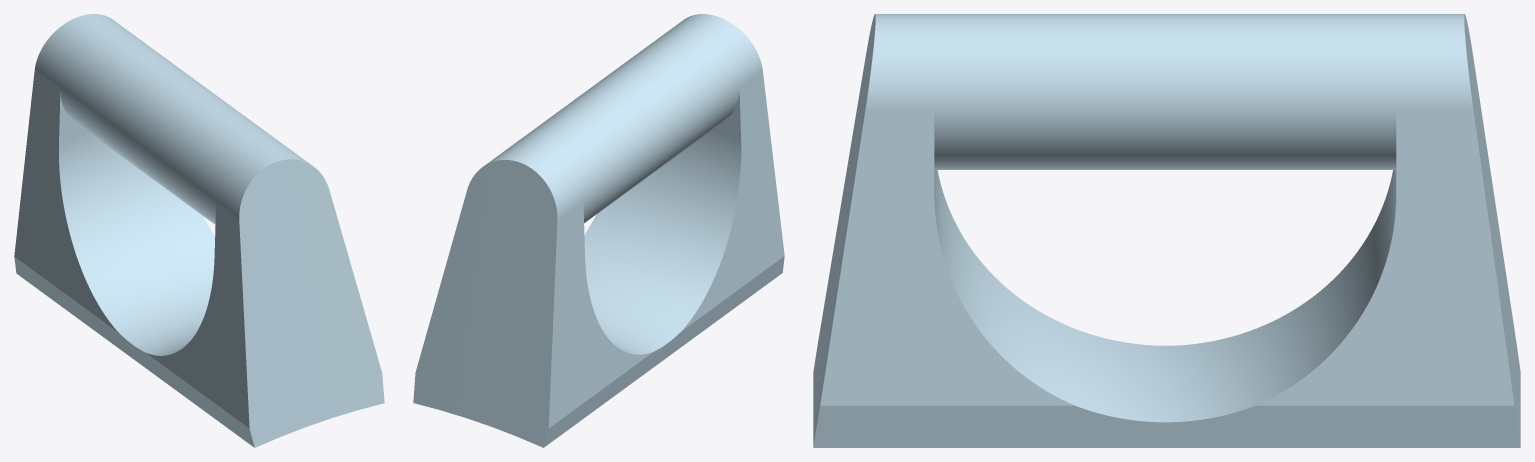
Rendered from knob.gltf.
The picture shows the model from 3 angles, left to right: view 1: azimuth 30°, elevation 25°; view 2: azimuth 150°, elevation 25°; view 3: azimuth 270°, elevation 25°; orthographic projection. The views are drawn at different scales.
Parts seen in each view (by area): view 1: Part 1; view 2: Part 1; view 3: Part 1.
Part boxes in pixels (bbox=[...]): Part 1: bbox=[14, 14, 384, 447]; Part 1: bbox=[413, 14, 784, 447]; Part 1: bbox=[813, 14, 1520, 447].
Bounding box in the file's own units: 0.004 × 0.00746 × 0.0124.
